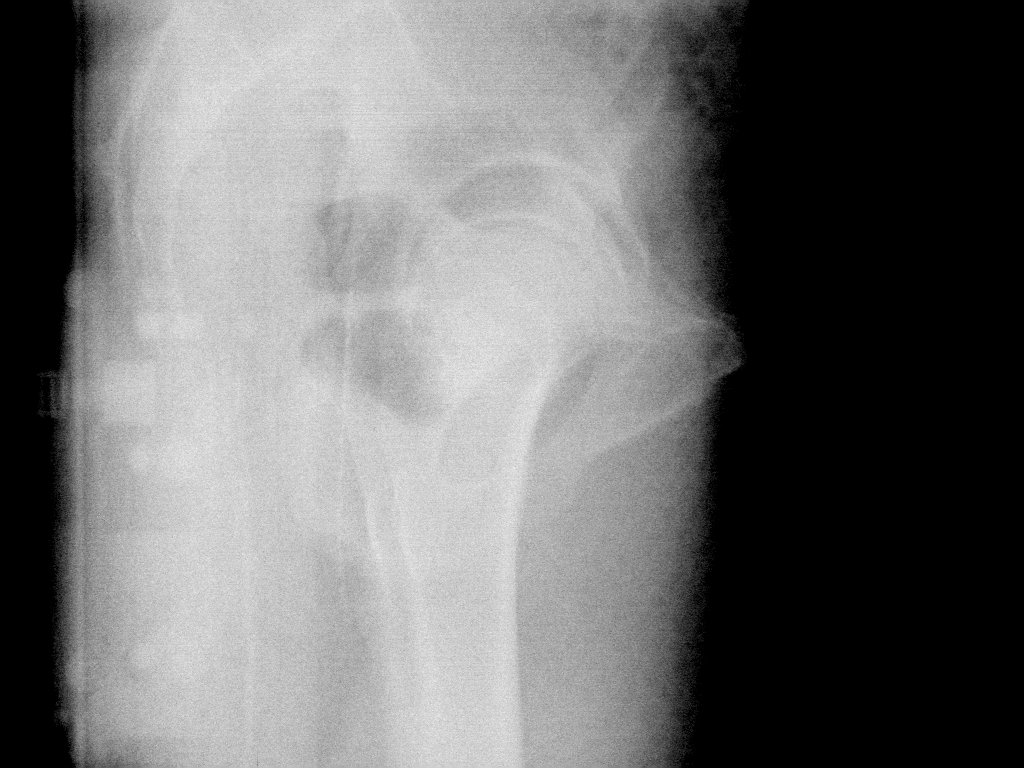out: (803, 146, 906, 236)
